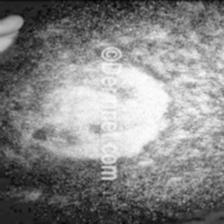Toxin: (32, 62, 174, 154)
